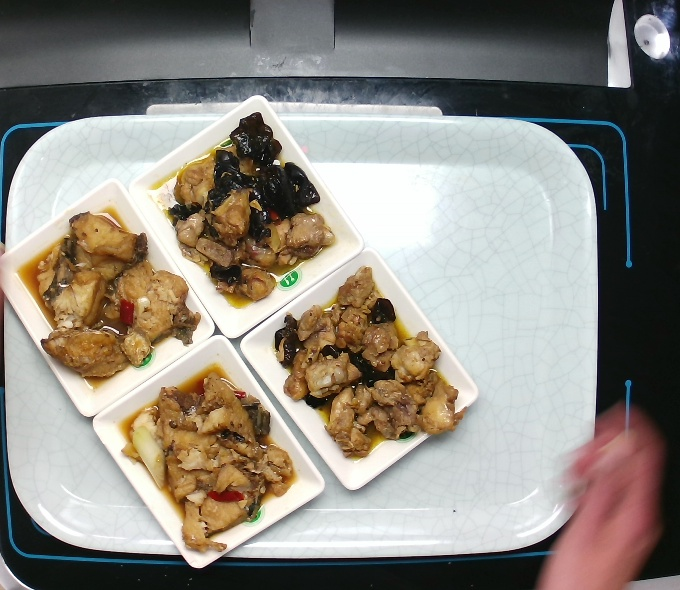wcq-MuErRouKuai: (154, 108, 343, 311), (273, 265, 463, 462)
wcq-YuKuai: (107, 366, 300, 557), (16, 206, 208, 387)
